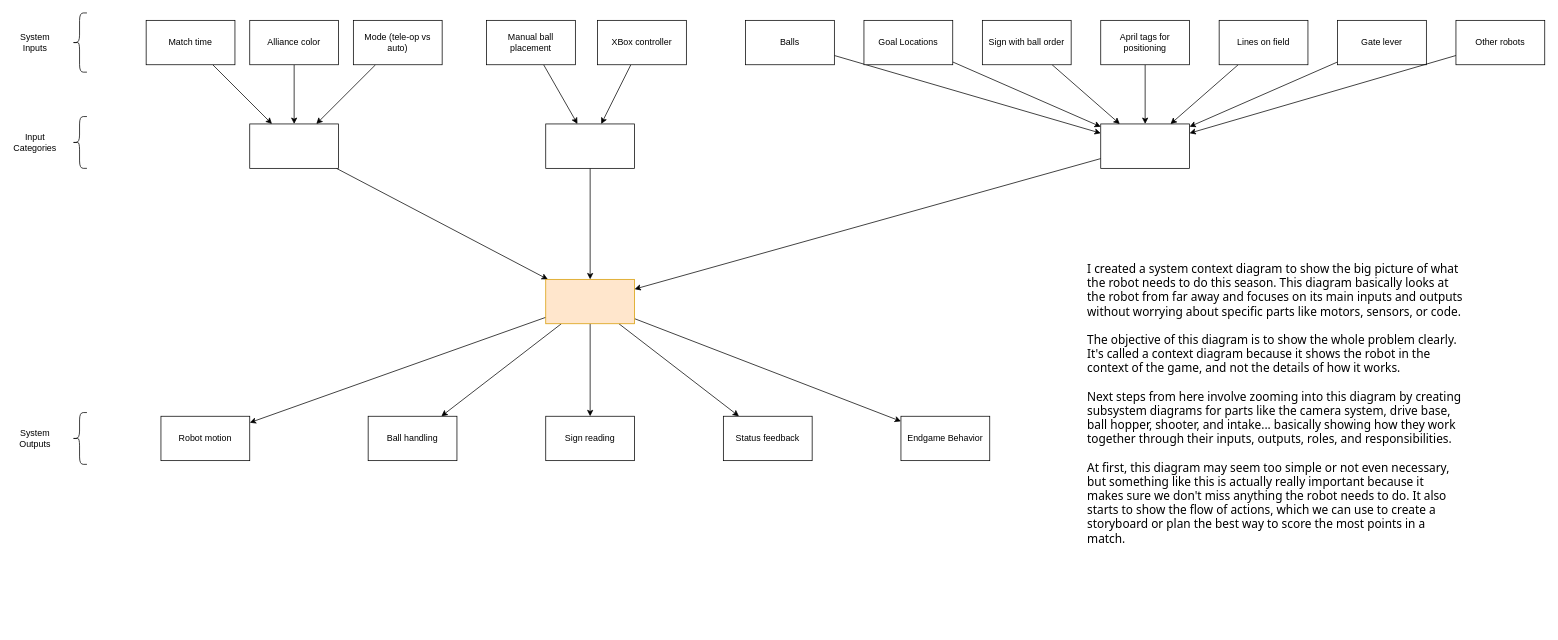
The diagram is 1558 pixels wide and 640 high, and some of its shapes have lost their labels. Here are the shapes that lost their labels. From the top down, the centre of each, then its label:
the point at 294,145: Game state
the point at 590,145: User inputs
the point at 1145,145: Field Environment
the point at 590,301: Robot
